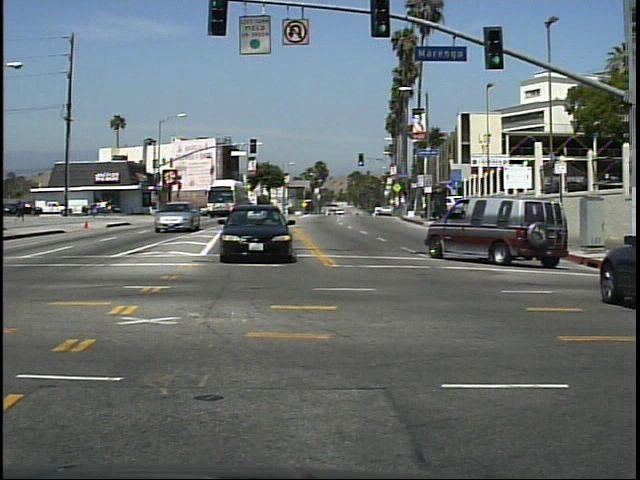person: (13, 197, 29, 225)
